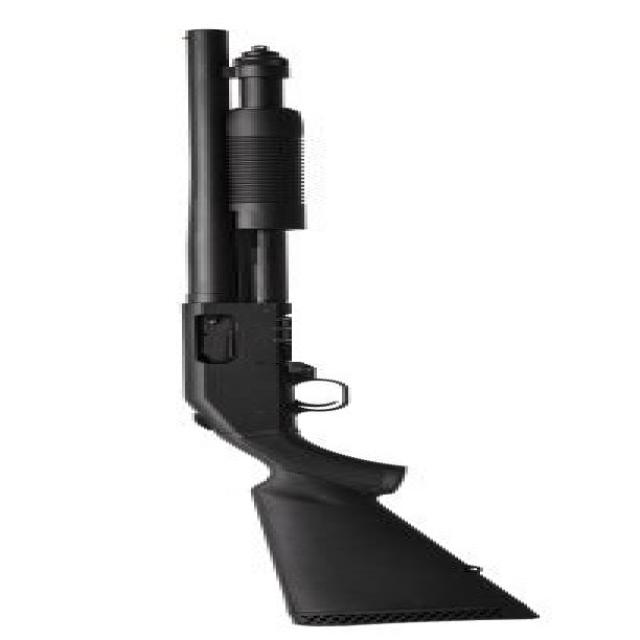rifle: (135, 13, 569, 628)
